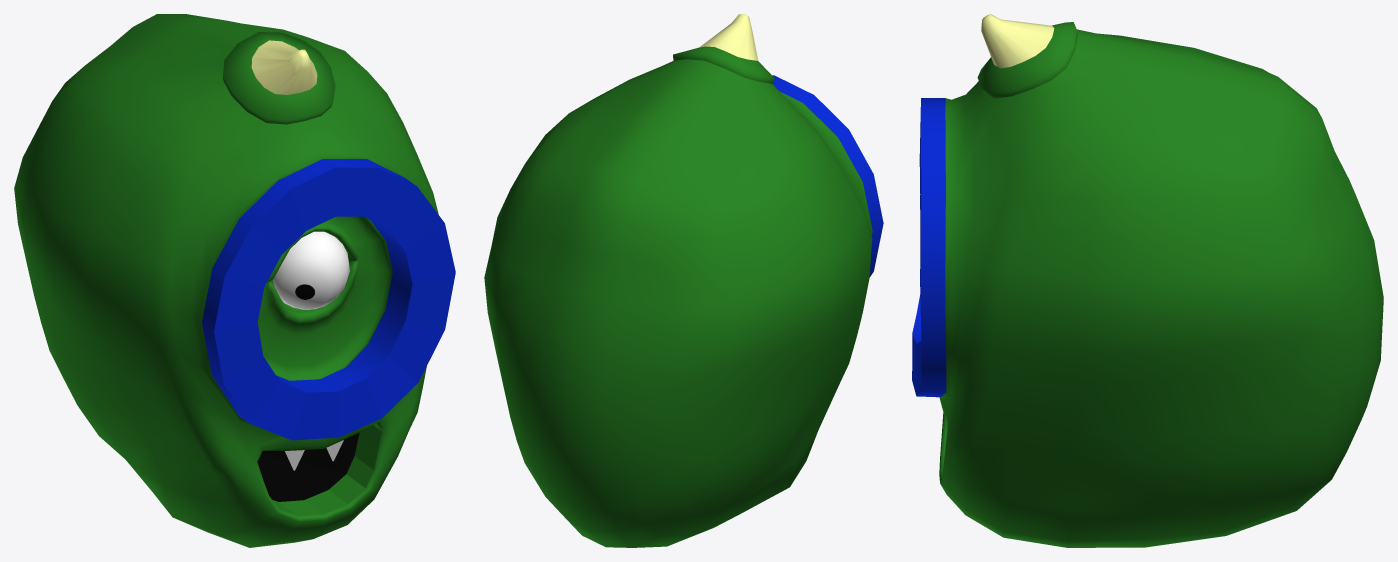
File: Virus_0.fbx
The picture shows the model from 3 angles, left to right: view 1: azimuth 30°, elevation 25°; view 2: azimuth 150°, elevation 25°; view 3: azimuth 270°, elevation 25°; orthographic projection. The views are drawn at different scales.
Parts seen in each view (by area): view 1: Virus_02_Head, Virus_02_Number, Virus_02_Eye, Object, Virus_02_Horn; view 2: Virus_02_Head, Virus_02_Number, Virus_02_Horn; view 3: Virus_02_Head, Virus_02_Number, Virus_02_Horn.
Boxes of the visible parts, x1,y1,x2,y2 form: Virus_02_Head: [14, 14, 438, 547]; Virus_02_Number: [202, 159, 455, 440]; Virus_02_Eye: [272, 231, 349, 309]; Object: [257, 432, 359, 501]; Virus_02_Horn: [251, 40, 317, 94]; Virus_02_Head: [484, 46, 872, 547]; Virus_02_Number: [772, 75, 883, 277]; Virus_02_Horn: [699, 14, 758, 60]; Virus_02_Head: [939, 22, 1383, 547]; Virus_02_Number: [912, 98, 946, 397]; Virus_02_Horn: [981, 14, 1054, 68].
Bounding box in the file's own units: 0.7275 × 1 × 0.8301.
6 materials, 1 textured.
